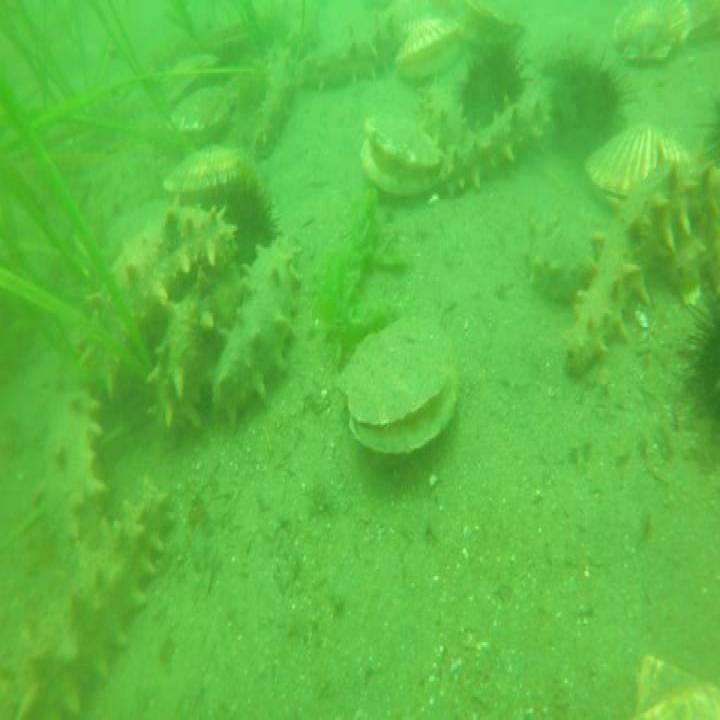echinus: (545, 39, 635, 153), (683, 272, 720, 462), (458, 39, 532, 126), (213, 170, 278, 260)
holothurian: (13, 476, 177, 720), (561, 149, 707, 379), (81, 205, 239, 407), (212, 236, 302, 434), (149, 263, 243, 445), (38, 370, 111, 562), (442, 86, 543, 204), (301, 21, 401, 96), (526, 204, 599, 300), (251, 48, 307, 160), (423, 71, 470, 157)
scallop: (331, 302, 461, 461), (359, 96, 445, 212), (586, 115, 697, 204), (609, 0, 696, 68), (162, 140, 253, 202), (393, 11, 463, 84), (166, 74, 234, 140), (459, 0, 532, 48)
